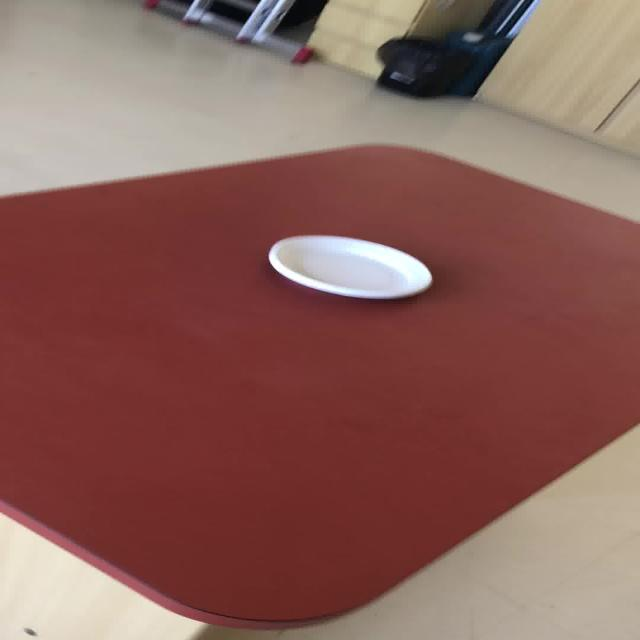plate: (266, 233, 433, 300)
